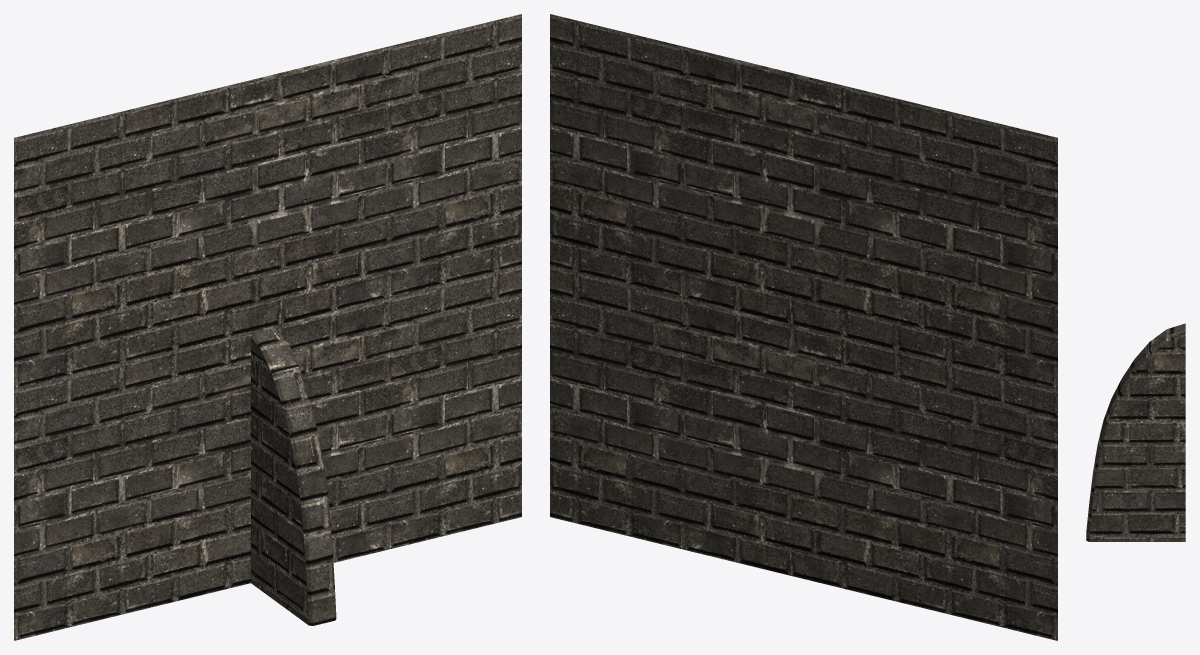
The model's file is WallTileBlocker.FBX.
3 renders of one model, left to right at view 1: azimuth 30°, elevation 25°; view 2: azimuth 150°, elevation 25°; view 3: azimuth 270°, elevation 25°, orthographic. The views are drawn at different scales.
Visible parts, largest first — view 1: WallTileBlocker; view 2: WallTileBlocker; view 3: WallTileBlocker.
Part boxes in pixels (bbox=[...]): WallTileBlocker: bbox=[14, 14, 521, 640]; WallTileBlocker: bbox=[550, 14, 1057, 640]; WallTileBlocker: bbox=[1086, 323, 1185, 541].
Bounding box in the file's own units: 400 × 379 × 81.18.
Materials: 1 (1 with a texture image).
